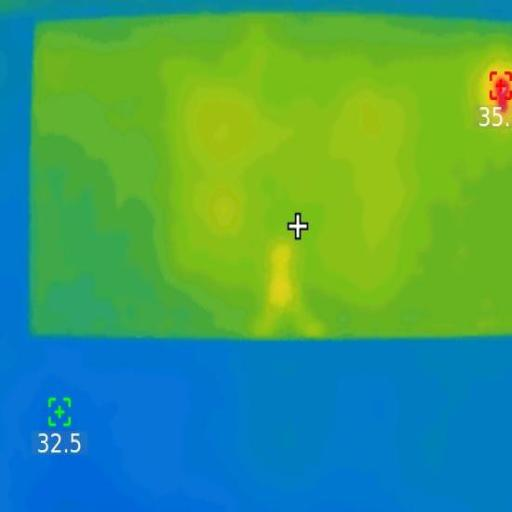hotspot: (493, 72, 512, 122)
